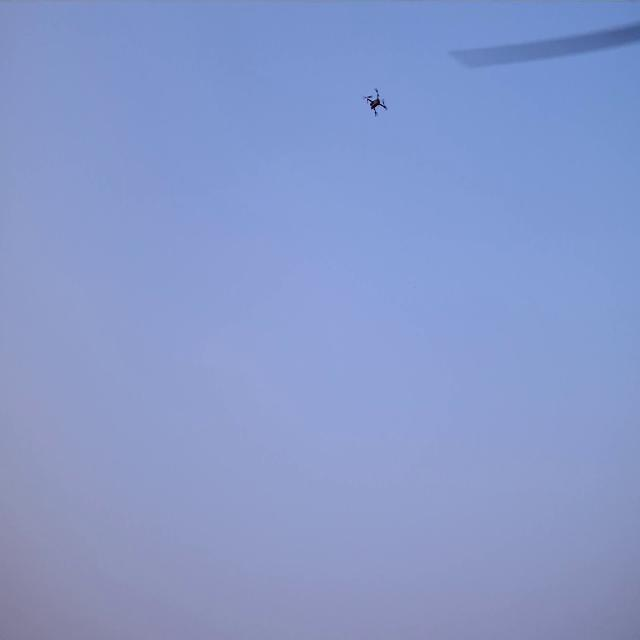UAV: (367, 90, 385, 116)
